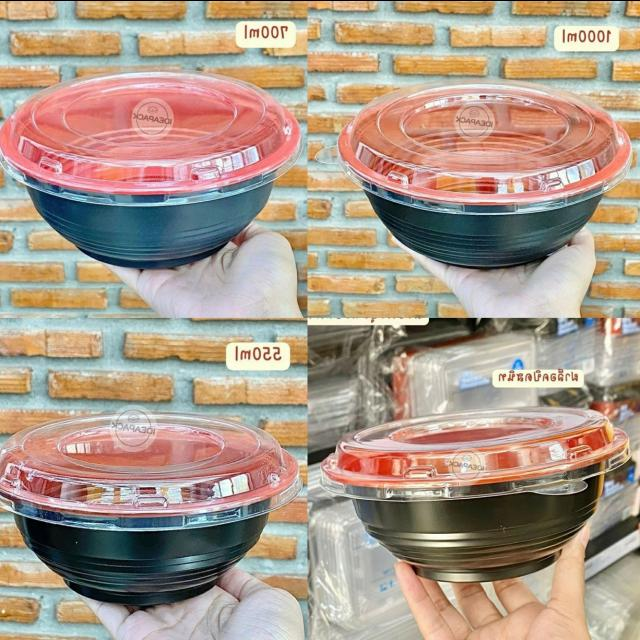plastik: (0, 408, 302, 607), (0, 70, 301, 266), (319, 78, 631, 267), (321, 407, 629, 582)
